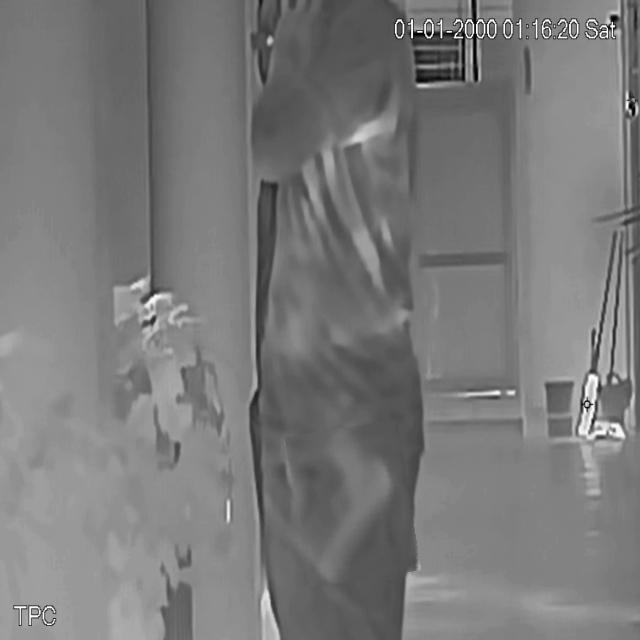Weapon: (290, 424, 416, 584)
